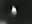person: (12, 6, 19, 19)
